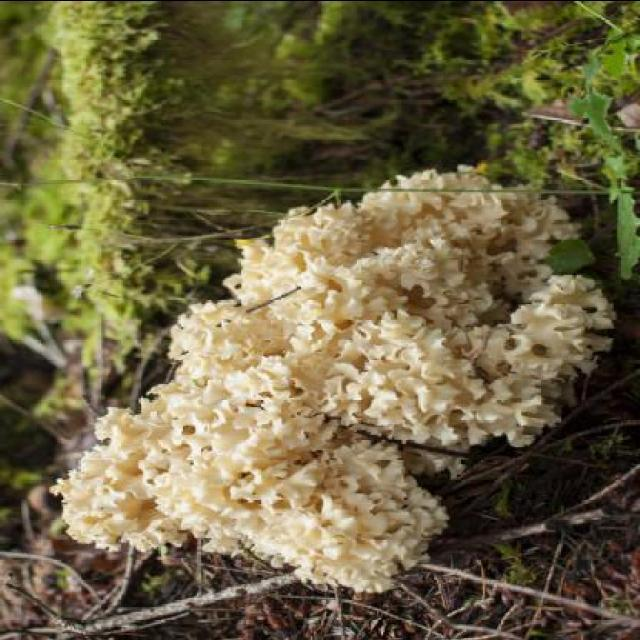Mushroom: (47, 170, 618, 592)
